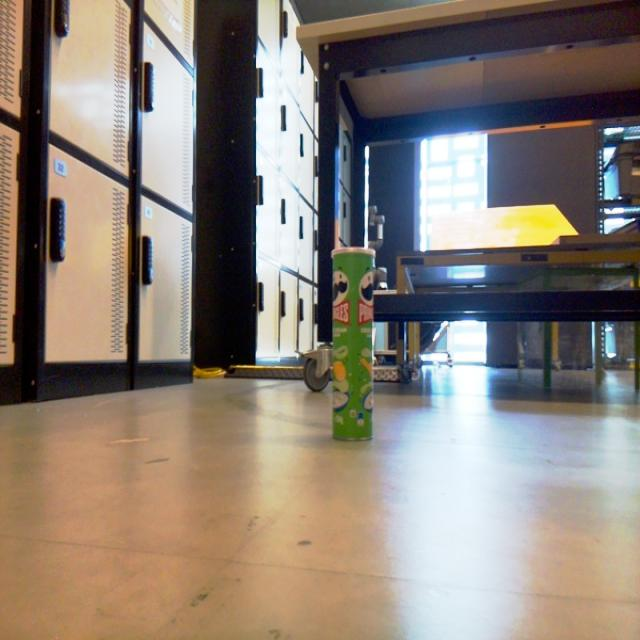greenpringles: (318, 237, 380, 451)
